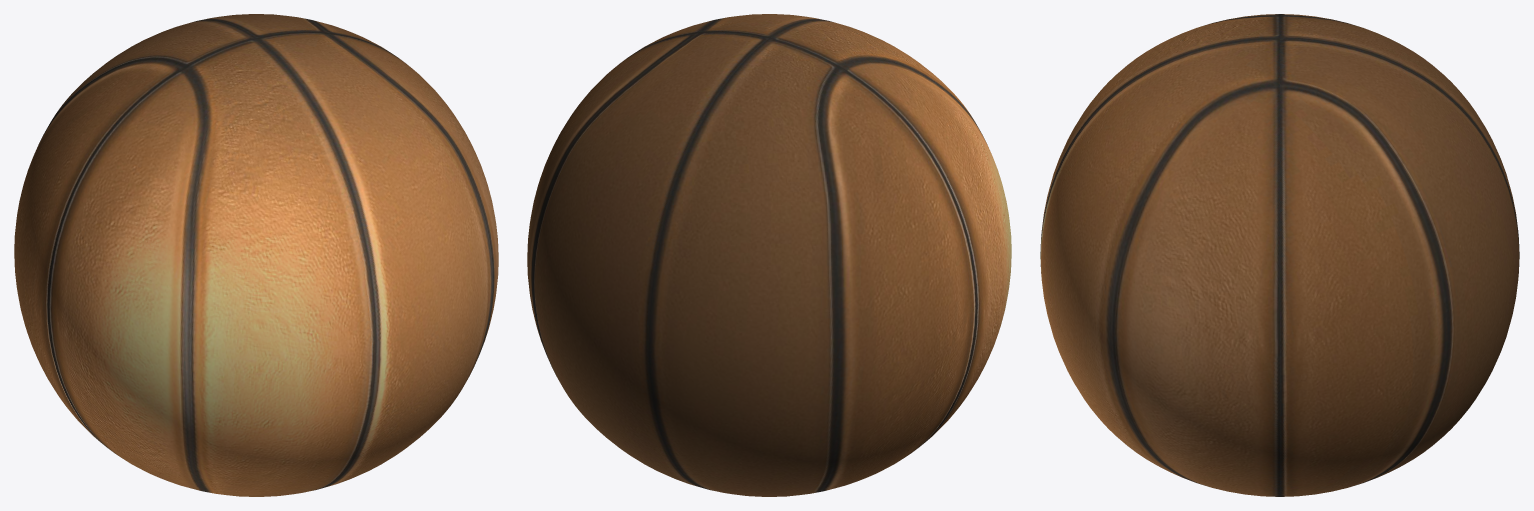
File: ball.obj
The picture shows the model from 3 angles, left to right: view 1: azimuth 30°, elevation 25°; view 2: azimuth 150°, elevation 25°; view 3: azimuth 270°, elevation 25°; orthographic projection.
Visible parts, largest first — view 1: 10487_basketball_V1_; view 2: 10487_basketball_V1_; view 3: 10487_basketball_V1_.
Part boxes in pixels (bbox=[...]): 10487_basketball_V1_: bbox=[14, 14, 498, 496]; 10487_basketball_V1_: bbox=[527, 14, 1011, 496]; 10487_basketball_V1_: bbox=[1040, 14, 1519, 496].
Bounding box in the file's own units: 39.33 × 39.33 × 39.33.
